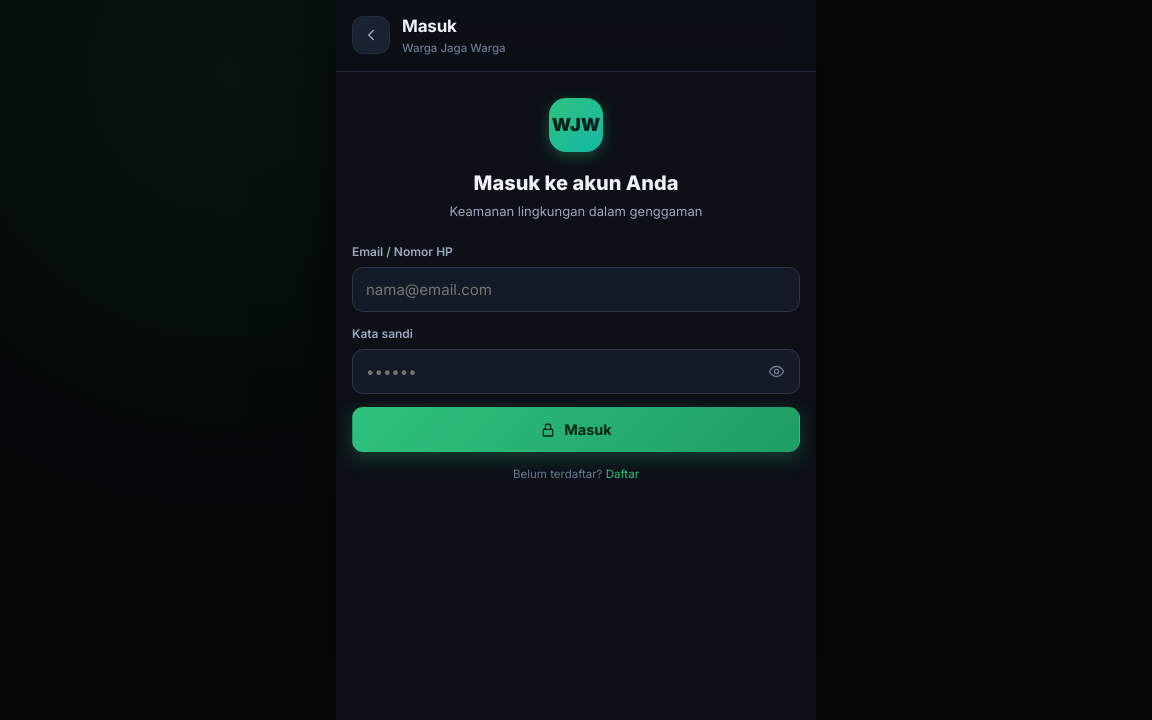
Test case: layar masuk › menawarkan bantuan pemulihan saat kredensial ditolak
This screenshot has width=1152, height=720.
In the field with placeholder "nama@email.com": coordinates (576, 290) left=352, top=267, right=800, bottom=312, type "x@y.id"
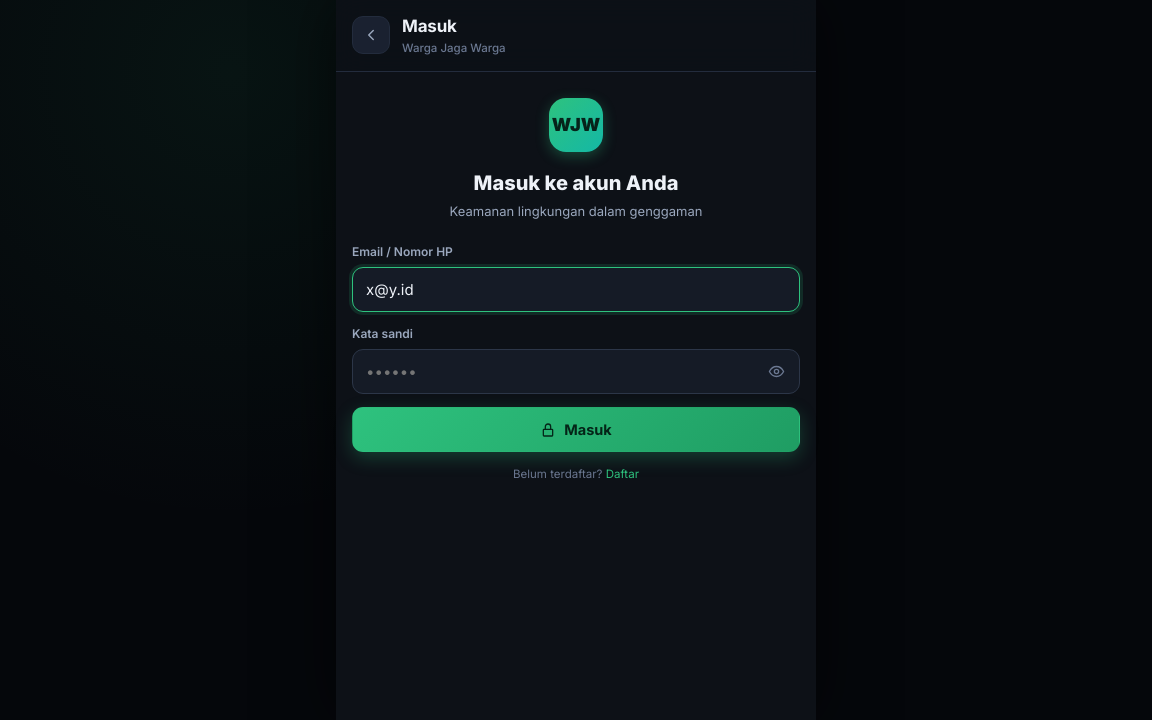
In the password field with placeholder "••••••": coordinates (576, 372) left=352, top=349, right=800, bottom=394, type "salah123"
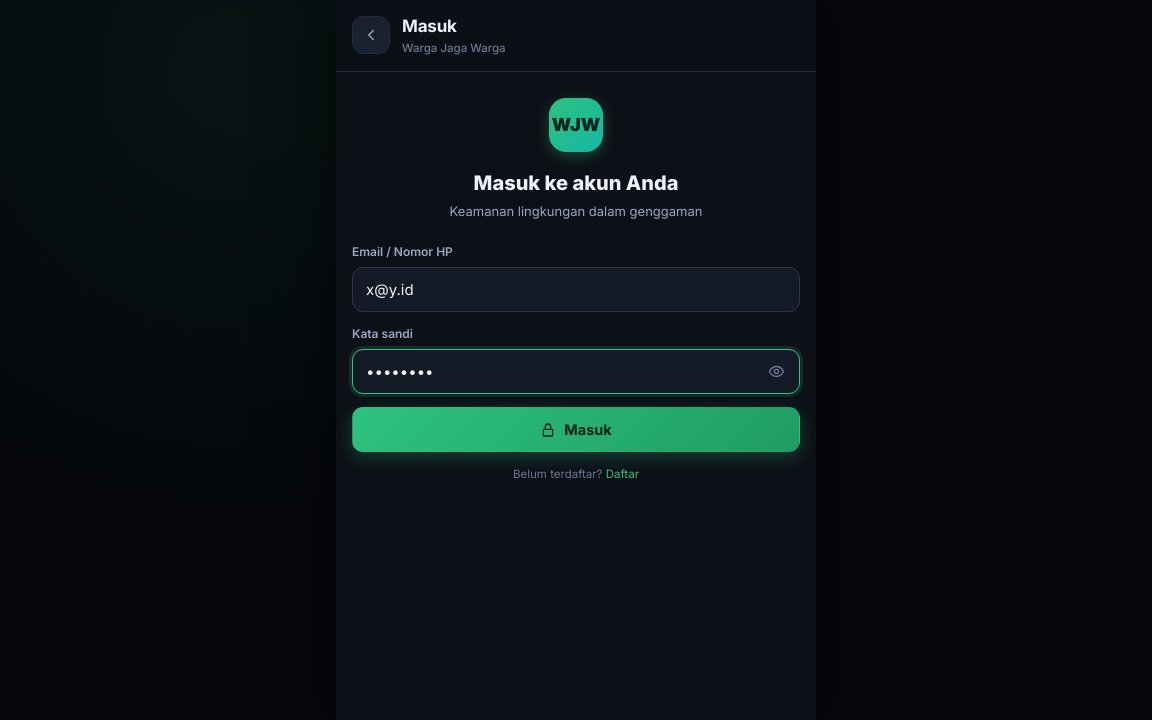
Click the button "Masuk": coordinates (576, 430) left=352, top=407, right=800, bottom=452
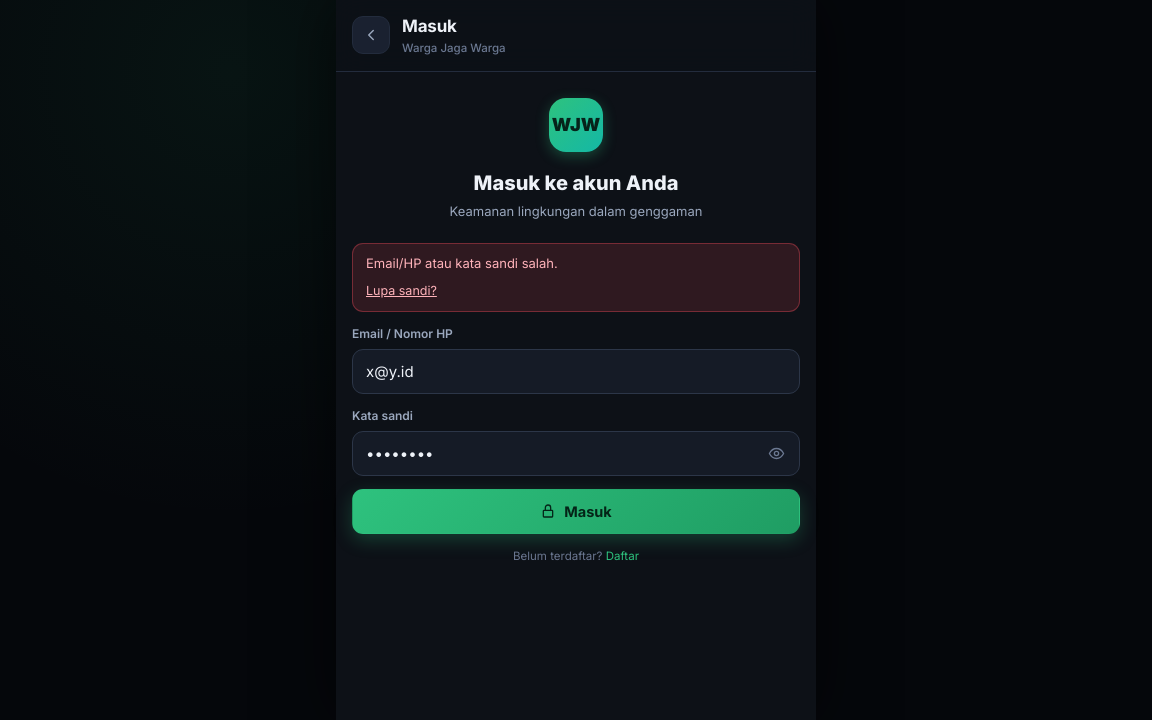
Click the button "Lupa sandi?": coordinates (401, 291) left=366, top=282, right=437, bottom=301
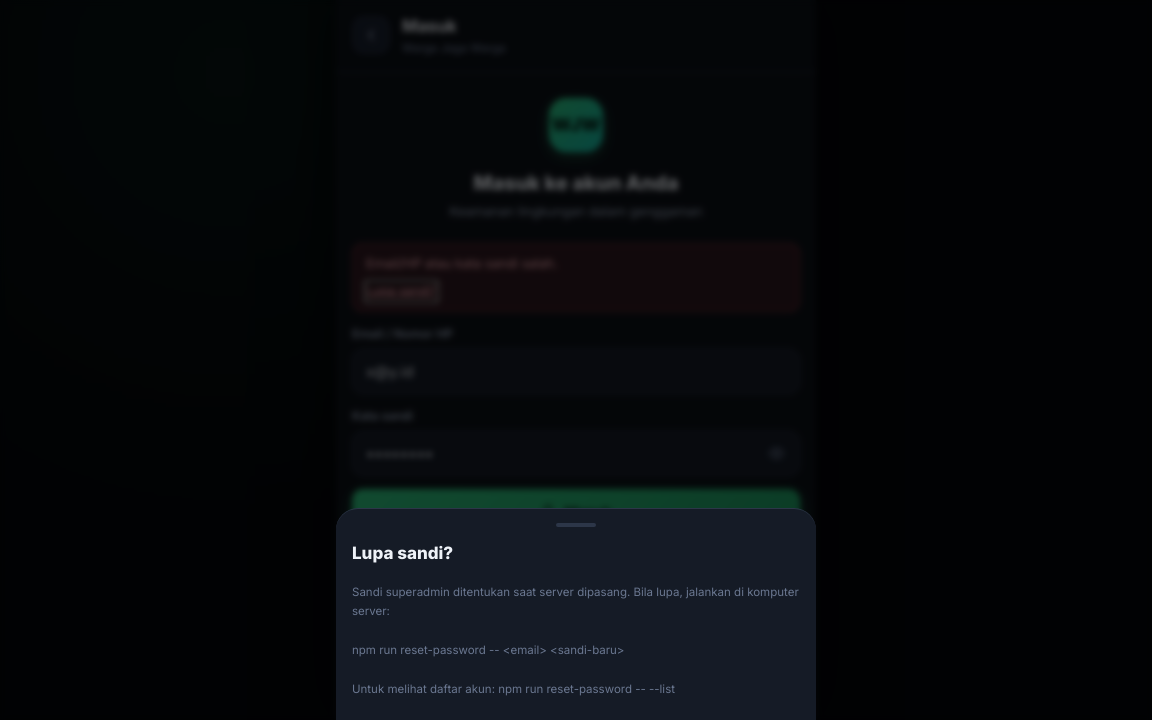
expect the text "npm run reset-password" is shown: met, box left=352, top=585, right=799, bottom=696
